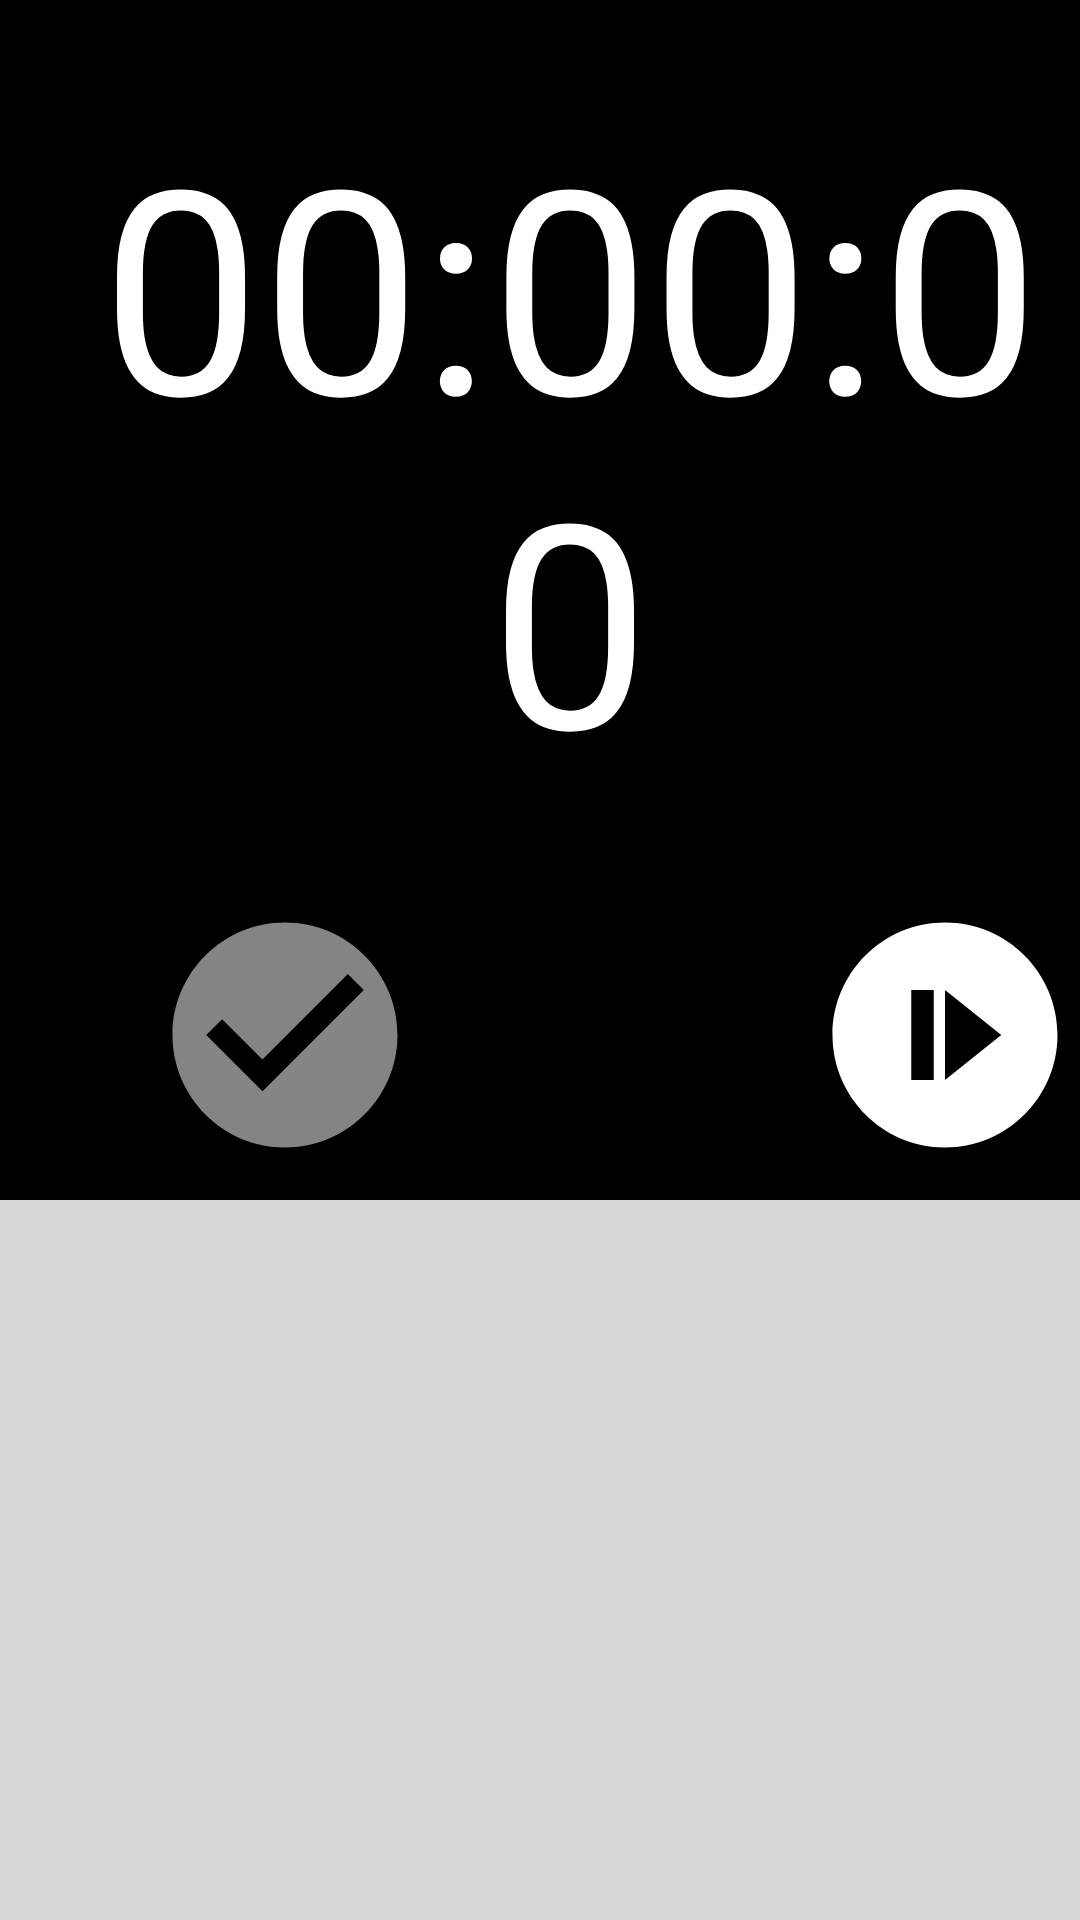

Locate icon controls on the screen. Image size 1080x1920, boxes as (x1, y1, x2, y2).
check circle disenabled: (172, 922, 398, 1148)
not started: (832, 922, 1058, 1148)
